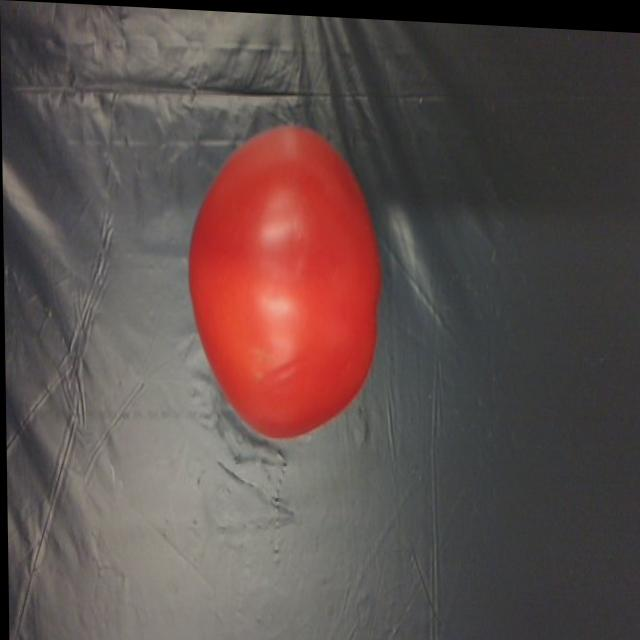kirmizi: (174, 110, 395, 448)
